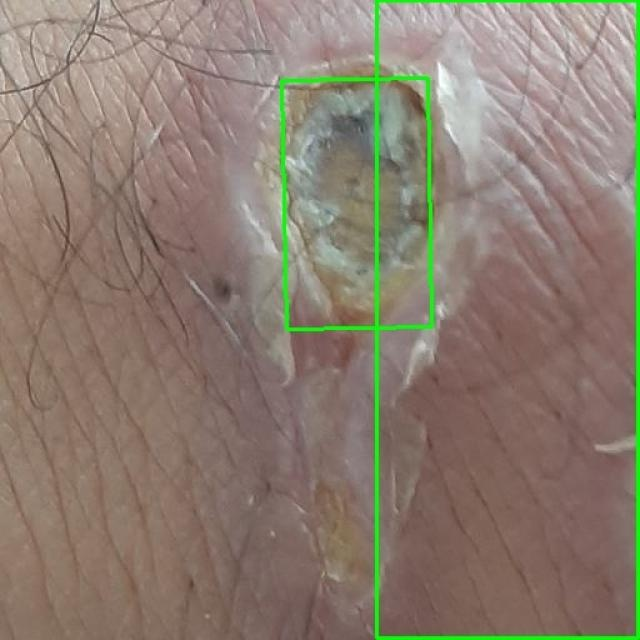Contact Dermatitis: (378, 0, 639, 639), (282, 78, 432, 329)
